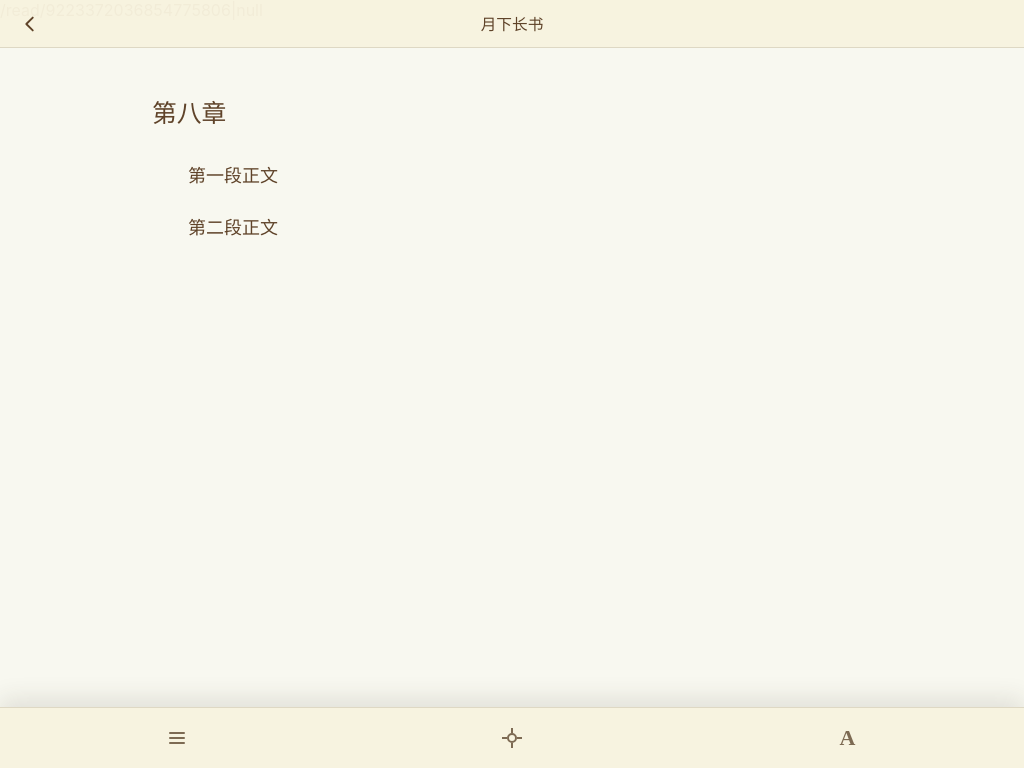
Test: ReaderPage history restoration › keeps the settings card open after choosing a reading mode
Expected: the text "第一段正文" is shown, x1=188 y1=165 x2=278 y2=186
Click the button named "设置".
click(847, 738)  # box x1=683 y1=716 x2=1012 y2=760
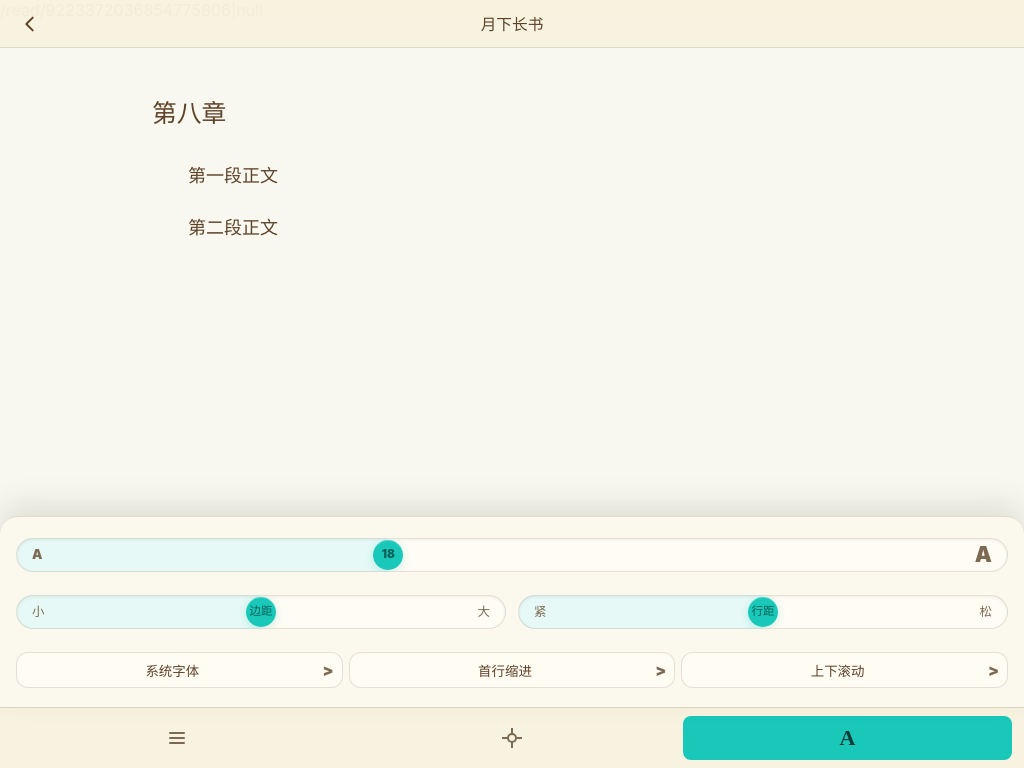
Click the button "上下滚动 >".
click(845, 670)  # box x1=681 y1=652 x2=1008 y2=688
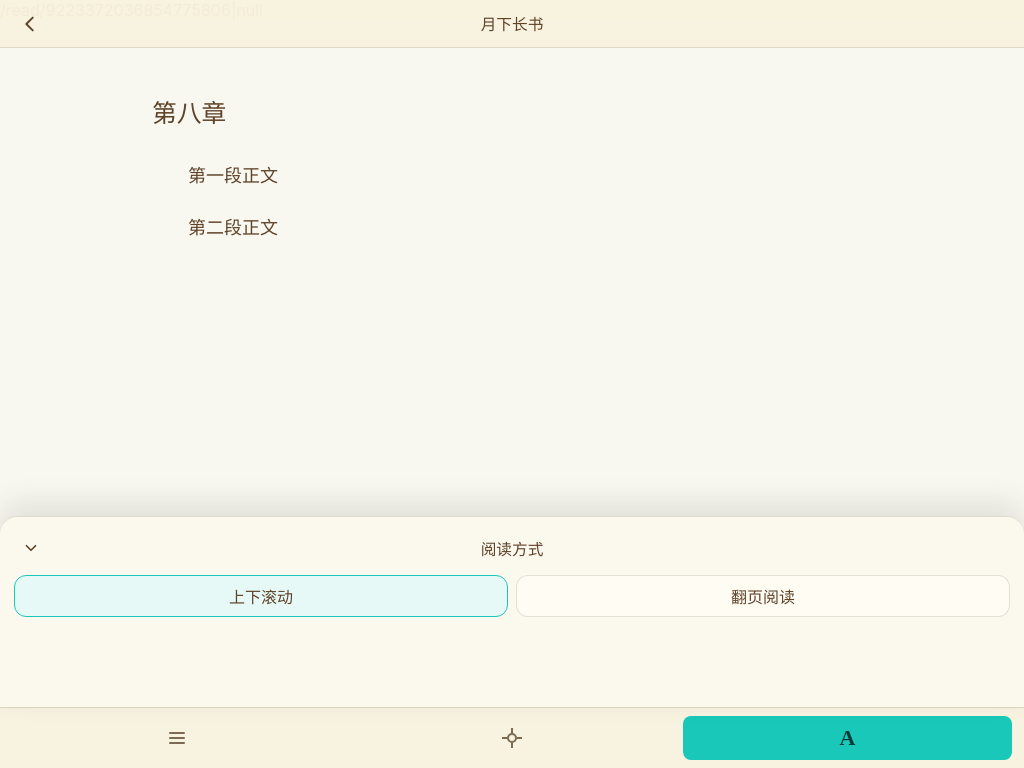
Click the button "翻页阅读".
click(763, 596)  # box x1=516 y1=575 x2=1010 y2=617
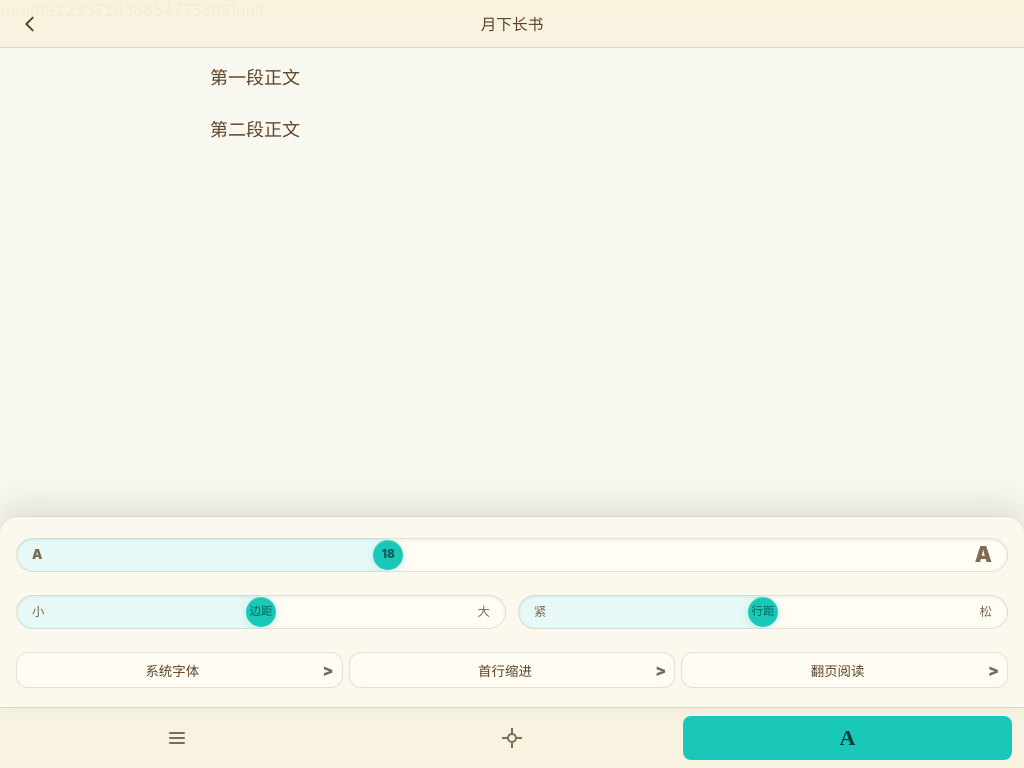
Expected: the element named "字号" is shown, x1=16 y1=538 x2=1008 y2=572
Expected: the element with class "reader-settings-popover" is shown, x1=0 y1=516 x2=1023 y2=707
Expected: the text "阅读方式" is gone
